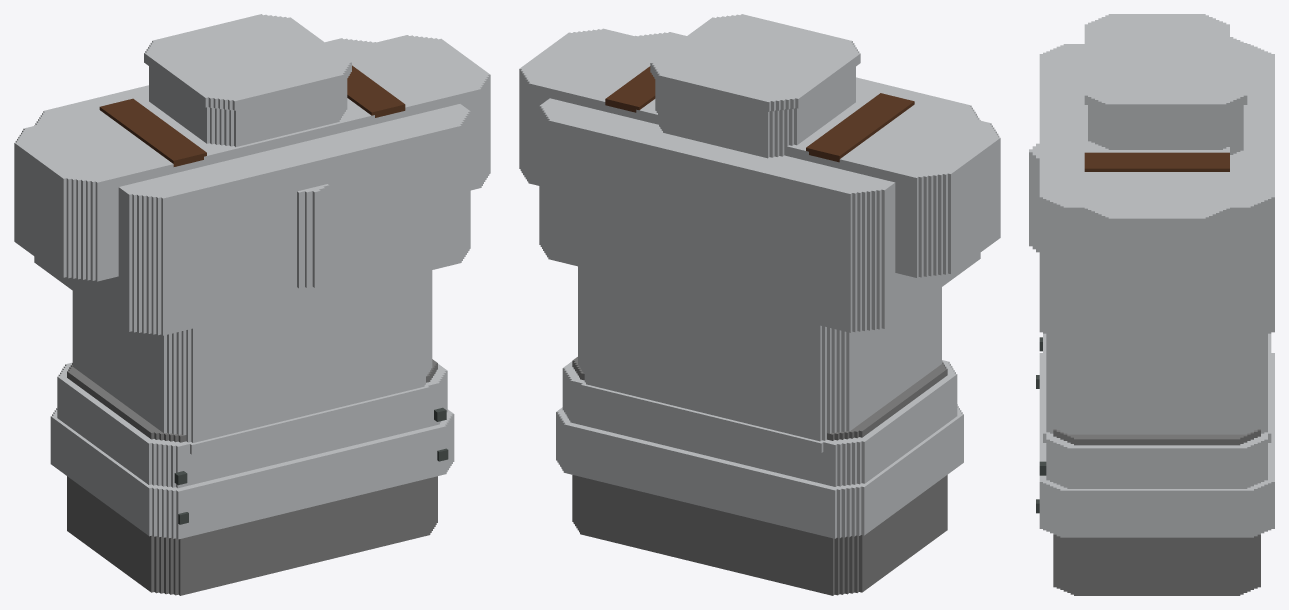
File: armor_lc_plate_worn_body.glb
3 renders of one model, left to right at view 1: azimuth 30°, elevation 25°; view 2: azimuth 150°, elevation 25°; view 3: azimuth 270°, elevation 25°, orthographic. The views are drawn at different scales.
Parts seen in each view (by area): view 1: armor_lc_plate_worn_body:compound; view 2: armor_lc_plate_worn_body:compound; view 3: armor_lc_plate_worn_body:compound.
Part boxes in pixels (box(x1,y1,x2,y2)): armor_lc_plate_worn_body:compound: box(14, 14, 490, 595); armor_lc_plate_worn_body:compound: box(519, 14, 1000, 595); armor_lc_plate_worn_body:compound: box(1029, 14, 1274, 595).
Bounding box in the file's own units: 0.56 × 0.584 × 0.284.
